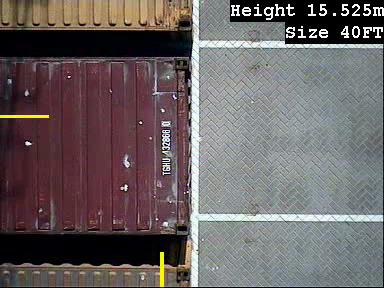groundmarker_2: (198, 148, 242, 228)
